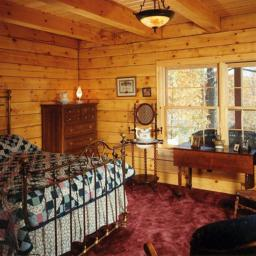Armario: (45, 104, 96, 147)
Cama: (8, 143, 126, 252)
Ventana: (160, 63, 227, 146), (220, 65, 255, 148)
